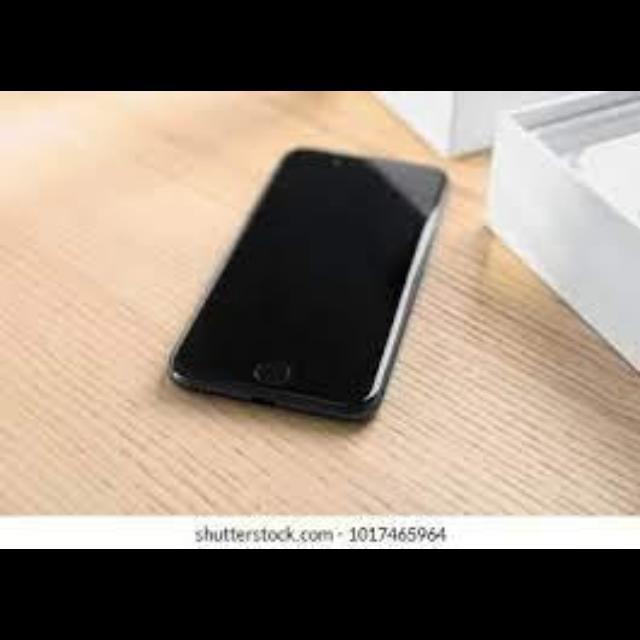phone: (174, 145, 429, 423)
